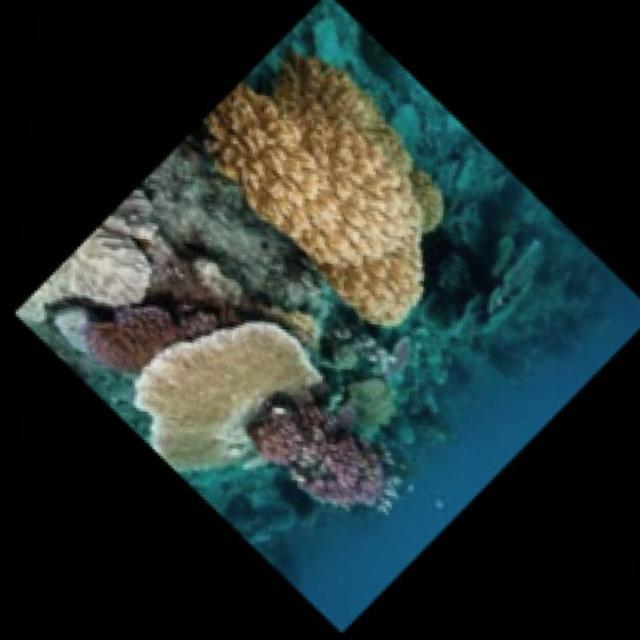Dead Coral: (437, 211, 561, 364)
